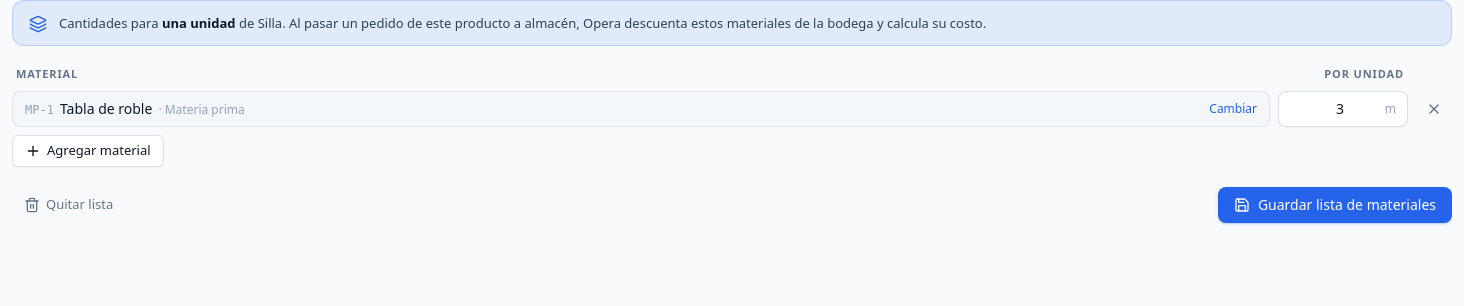
Test: BillOfMaterialsEditor › shows the backend error when saving fails
The image size is (1464, 306).
What coordinates should you click on to do the following:
click the button "Guardar lista de materiales"
I would click on:
 (1335, 204)
Its box is [1218,186,1452,222].
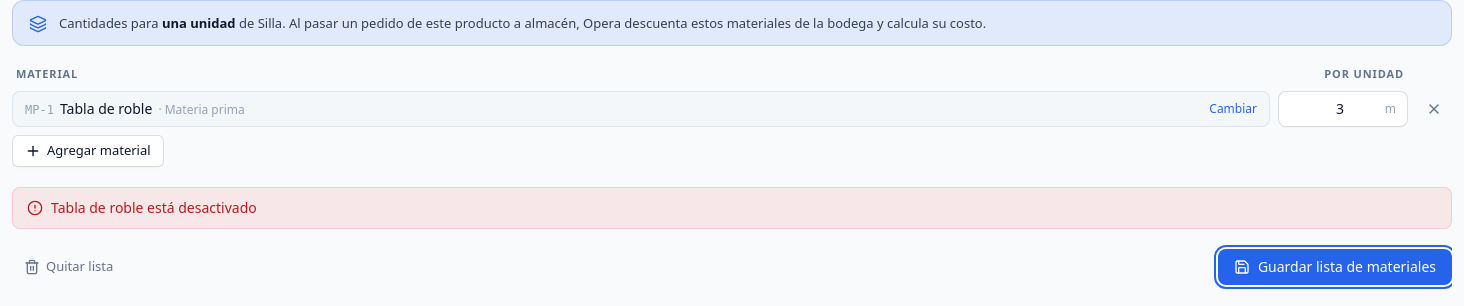
Check: the text "Tabla de roble está desactivado" is shown, box [51,198,257,218]
